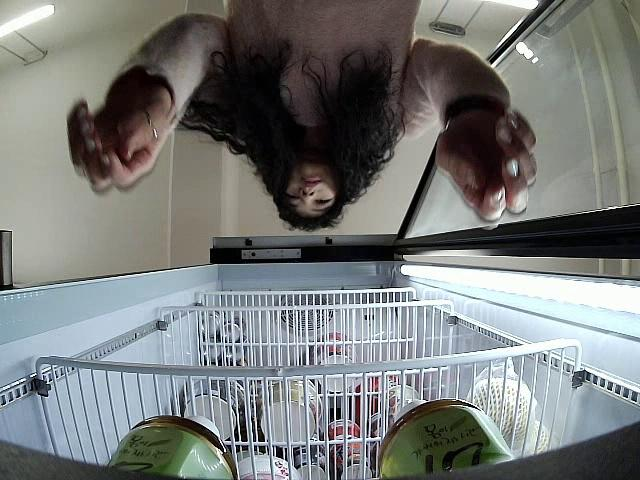00_hand: (434, 106, 538, 228), (65, 78, 169, 194)
